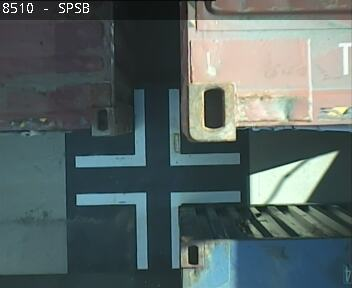groundmarker_1: (76, 190, 241, 268), (75, 91, 240, 168)
